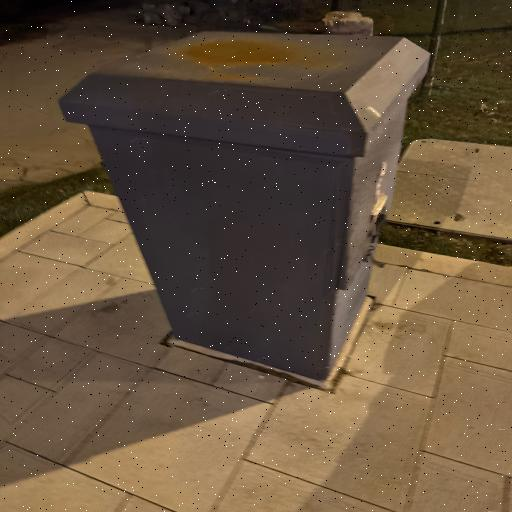Electrical Box: (58, 30, 436, 380)
